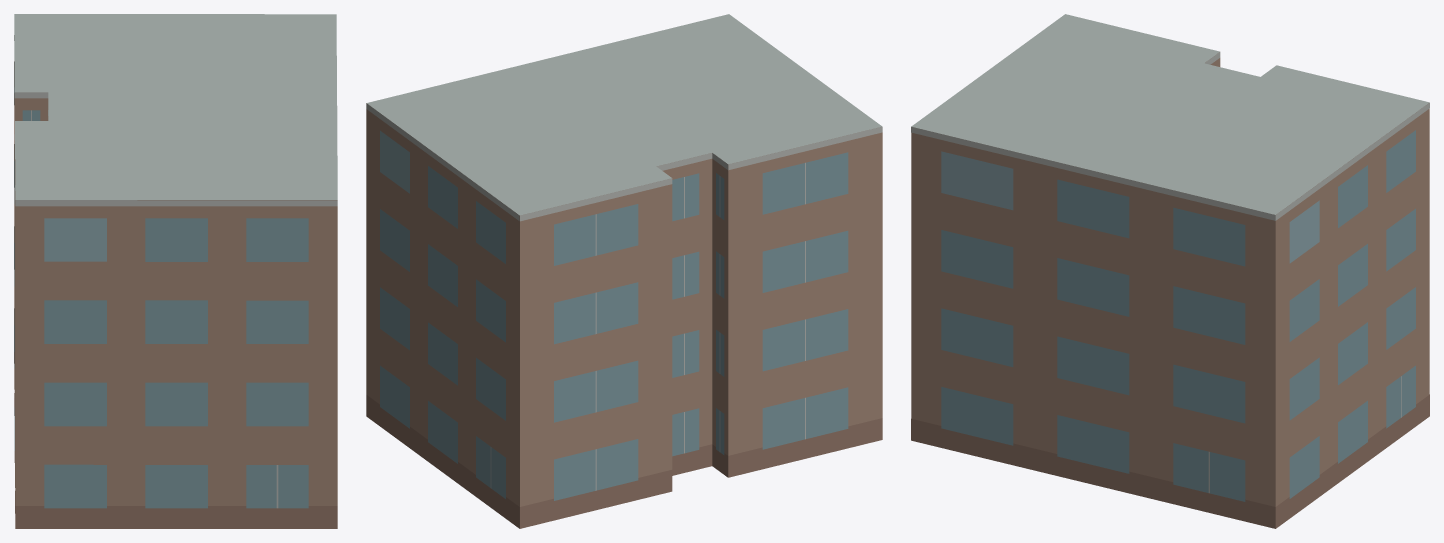
Rendered from survey-upis-32712475.glb.
The picture shows the model from 3 angles, left to right: view 1: azimuth 30°, elevation 25°; view 2: azimuth 150°, elevation 25°; view 3: azimuth 270°, elevation 25°; orthographic projection. The views are drawn at different scales.
Visible parts, largest first — view 1: survey-upis-32712475.tmp; view 2: survey-upis-32712475.tmp; view 3: survey-upis-32712475.tmp.
Boxes of the visible parts, x1,y1,x2,y2 form: survey-upis-32712475.tmp: (14, 14, 337, 528); survey-upis-32712475.tmp: (366, 14, 882, 528); survey-upis-32712475.tmp: (911, 14, 1429, 528).
Bounding box in the file's own units: 17.77 × 12.94 × 19.38.
